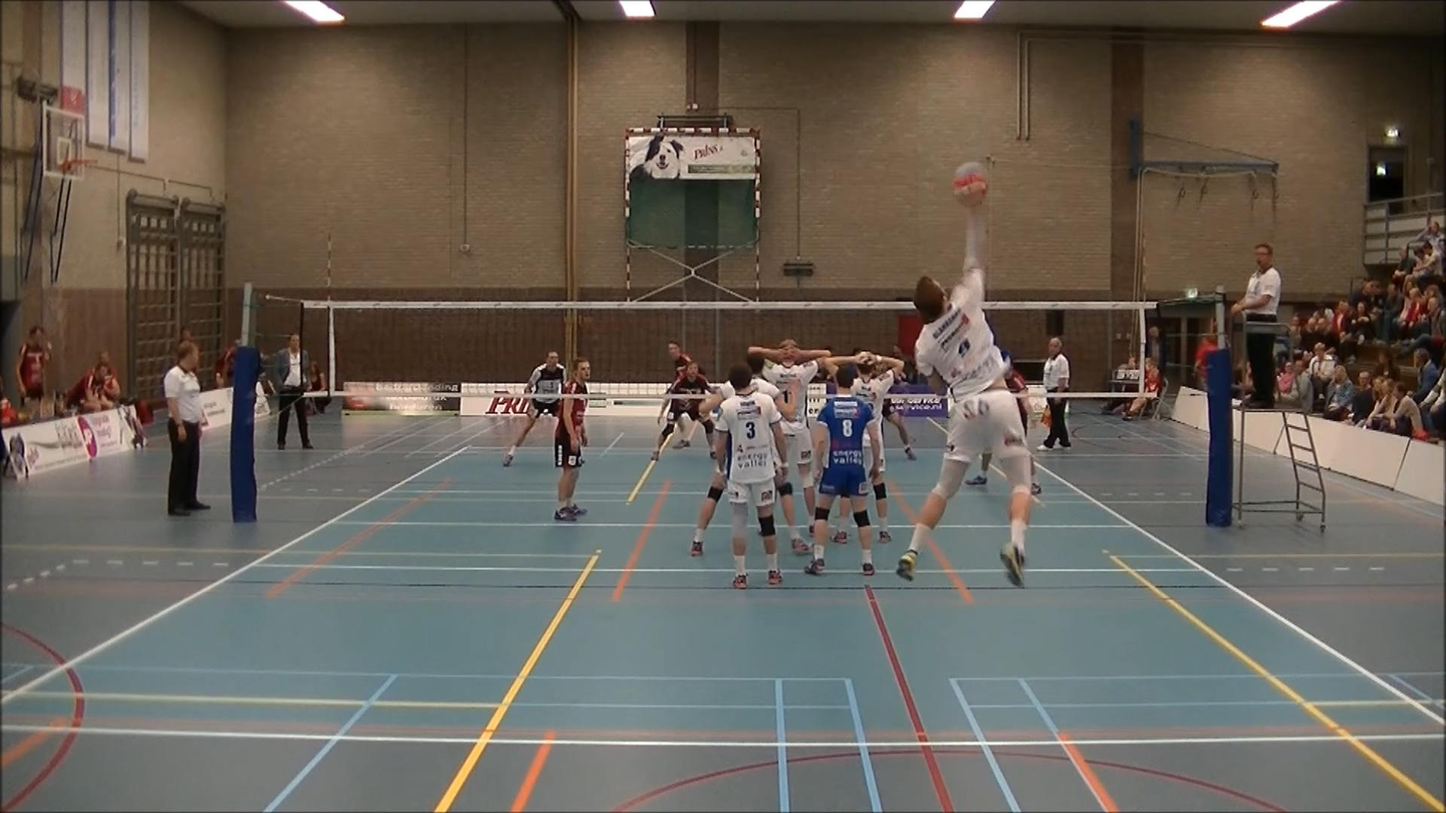battuta: (896, 186, 1035, 592)
